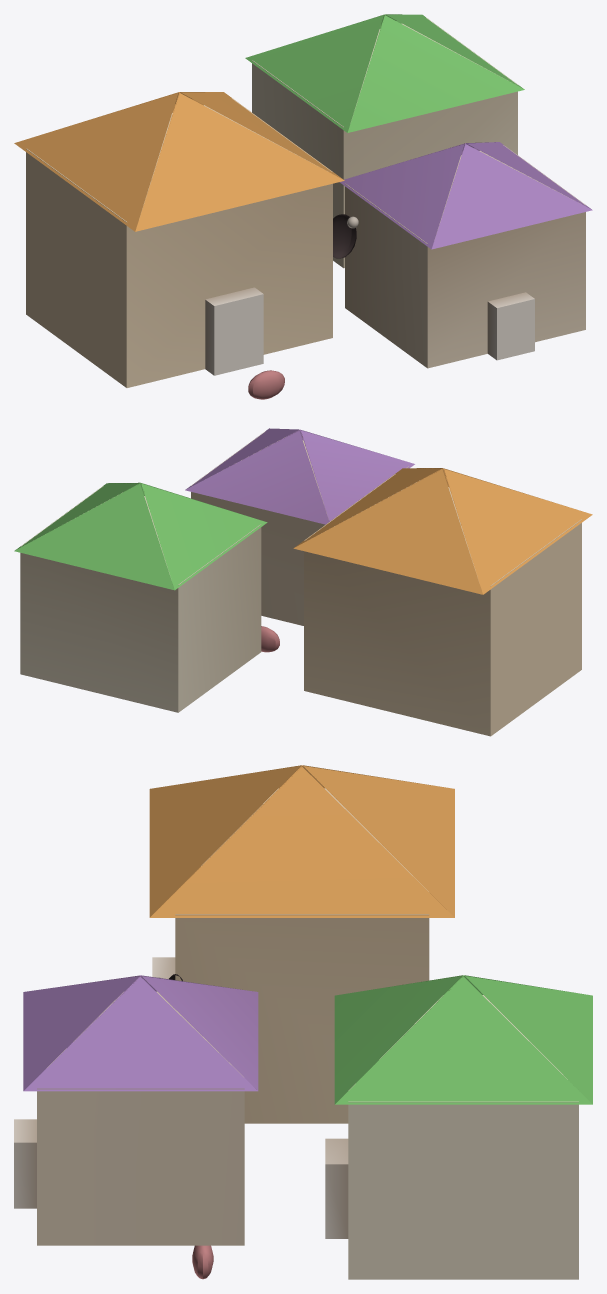
3 views of the same model, one above another, from view 1: azimuth 30°, elevation 25°; view 2: azimuth 150°, elevation 25°; view 3: azimuth 270°, elevation 25° (orthographic). The views are drawn at different scales.
Parts seen in each view (by area): view 1: pet_p8e113873; view 2: pet_p8e113873; view 3: pet_p8e113873.
Boxes of the visible parts, bbox=[...] form: pet_p8e113873: bbox=[14, 14, 592, 399]; pet_p8e113873: bbox=[14, 428, 592, 736]; pet_p8e113873: bbox=[14, 765, 592, 1279].
Bounding box in the file's own units: 0.5844 × 0.3484 × 0.502.
